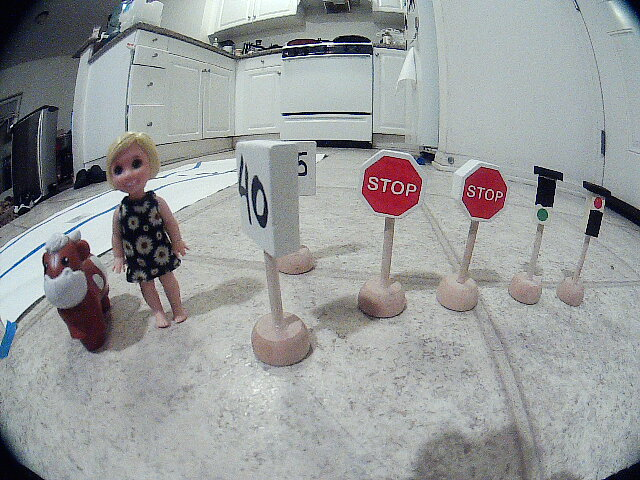Cow: (28, 227, 123, 368)
Green Traffic Light: (526, 159, 574, 238)
Person: (88, 131, 205, 347)
Red Traffic Light: (574, 177, 622, 264)
Speed Limit 40: (222, 134, 289, 255)
Stop Sign: (349, 143, 440, 229), (449, 155, 526, 244)
